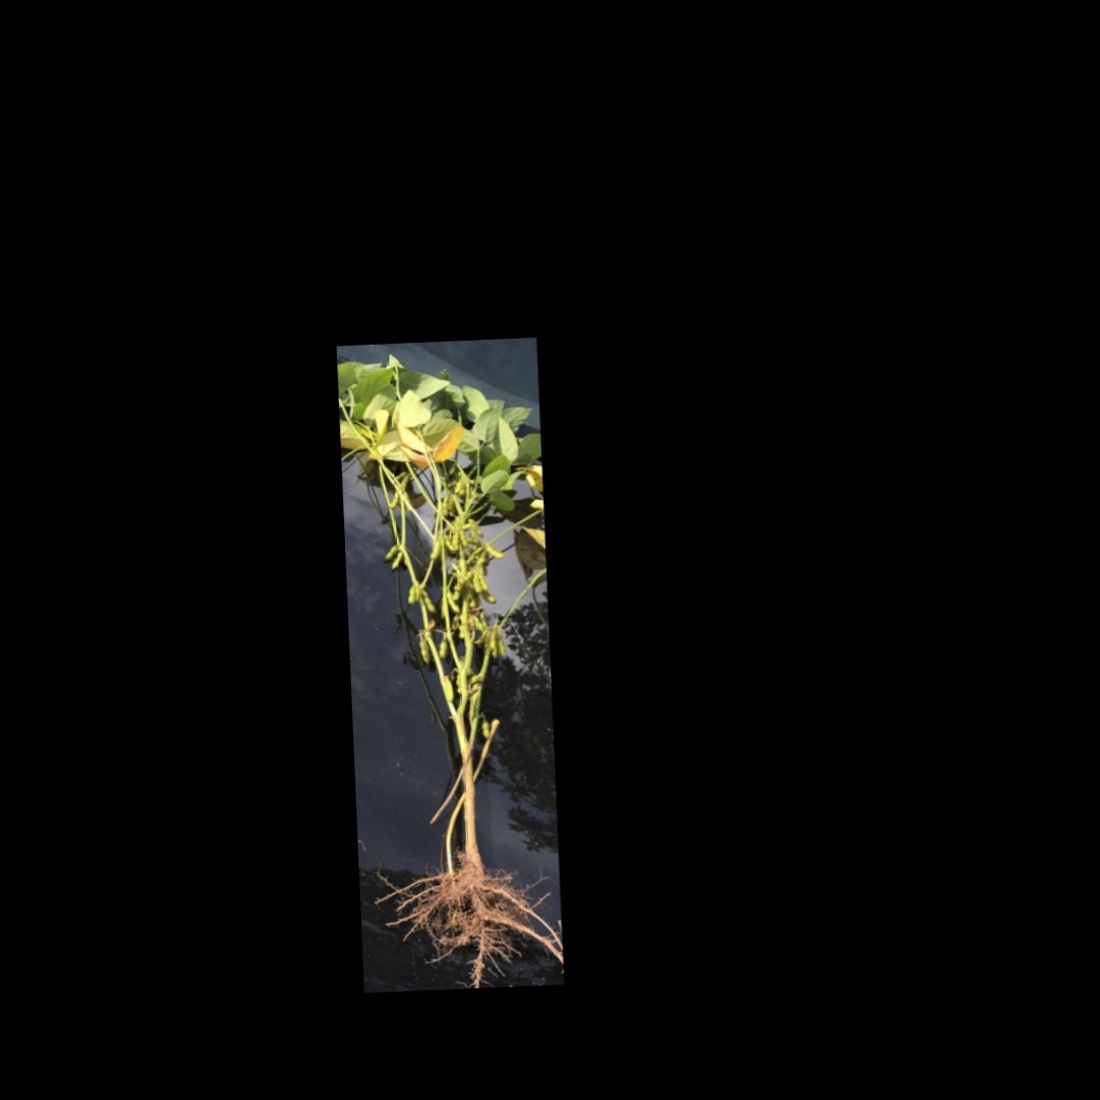pod: (482, 539, 507, 560), (419, 586, 438, 613), (446, 587, 462, 616), (388, 548, 405, 573), (418, 635, 431, 667), (468, 569, 484, 596), (387, 488, 403, 511), (439, 495, 452, 519), (480, 718, 490, 743)
soy: (341, 395, 554, 955)
